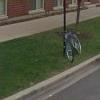Bicycle: (55, 24, 89, 72)
